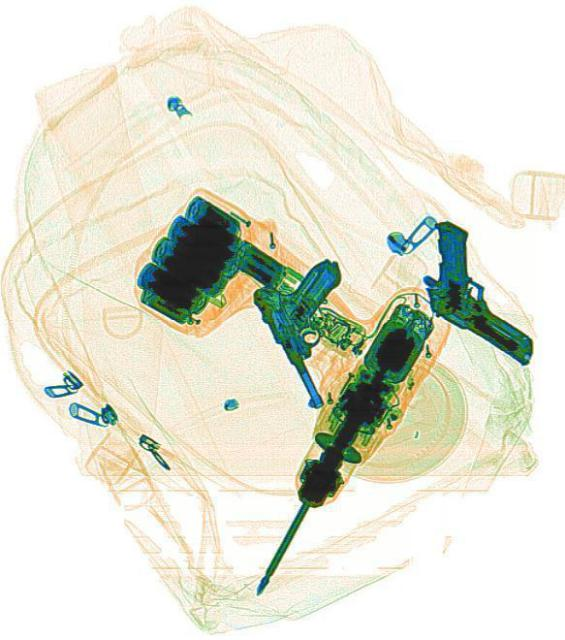Gun: (394, 213, 563, 367), (248, 246, 387, 408)
